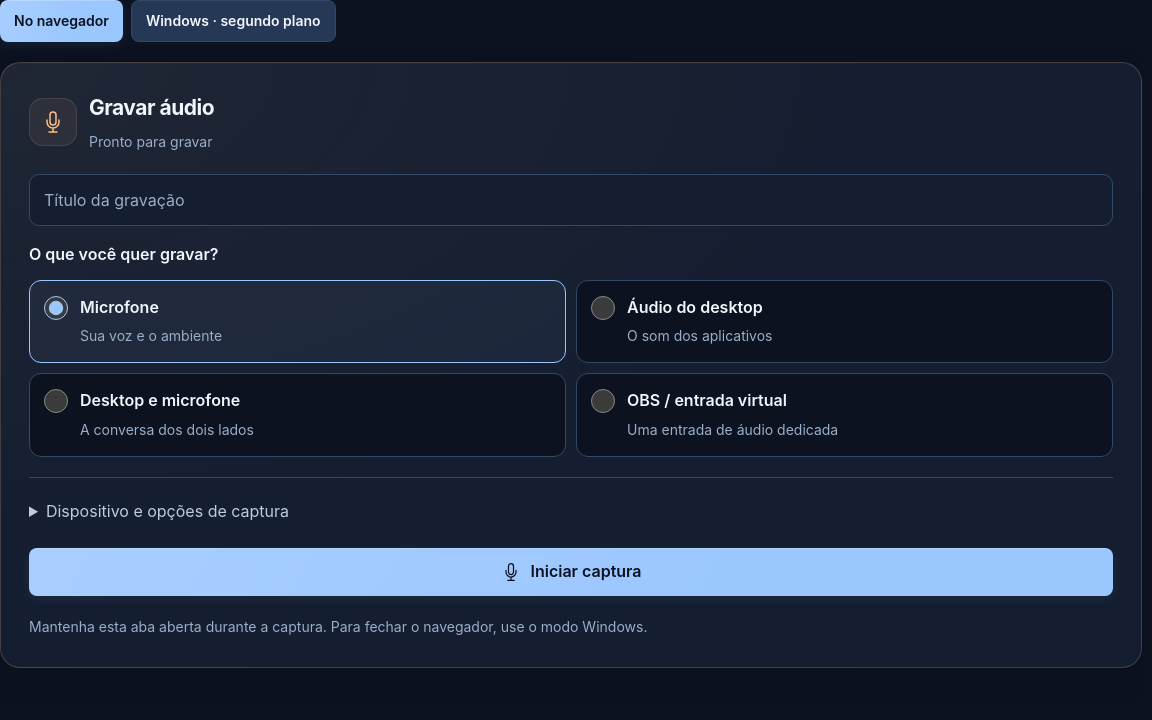
makes desktop capture discoverable and explains the sharing permission
The image size is (1152, 720).
Click the radio button labelled "Desktop e microfone A conversa dos dois lados" at {"x": 56, "y": 401}, box 44,389 -> 68,413
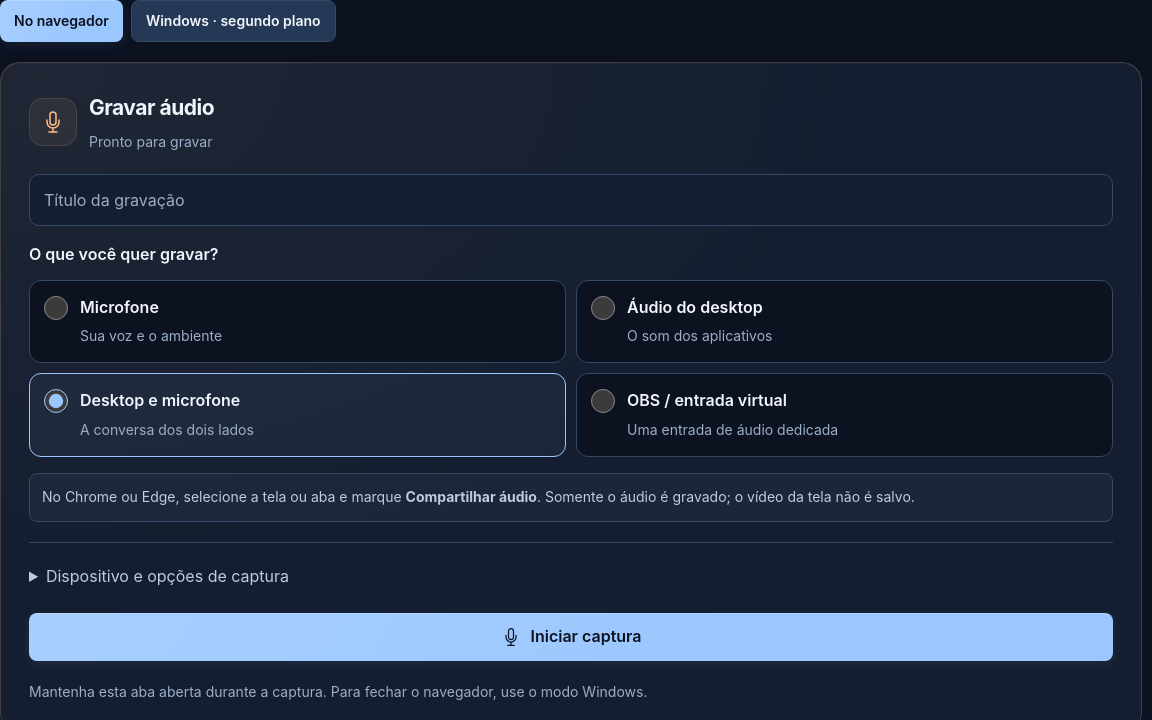
Expected: the text "Mantenha esta aba aberta" is shown, 29,683 -> 647,700
Now the radio button labelled "Desktop e microfone A conversa dos dois lados" is checked, box 44,389 -> 68,413
Now the text "Compartilhar áudio" is shown, box 406,488 -> 537,505
